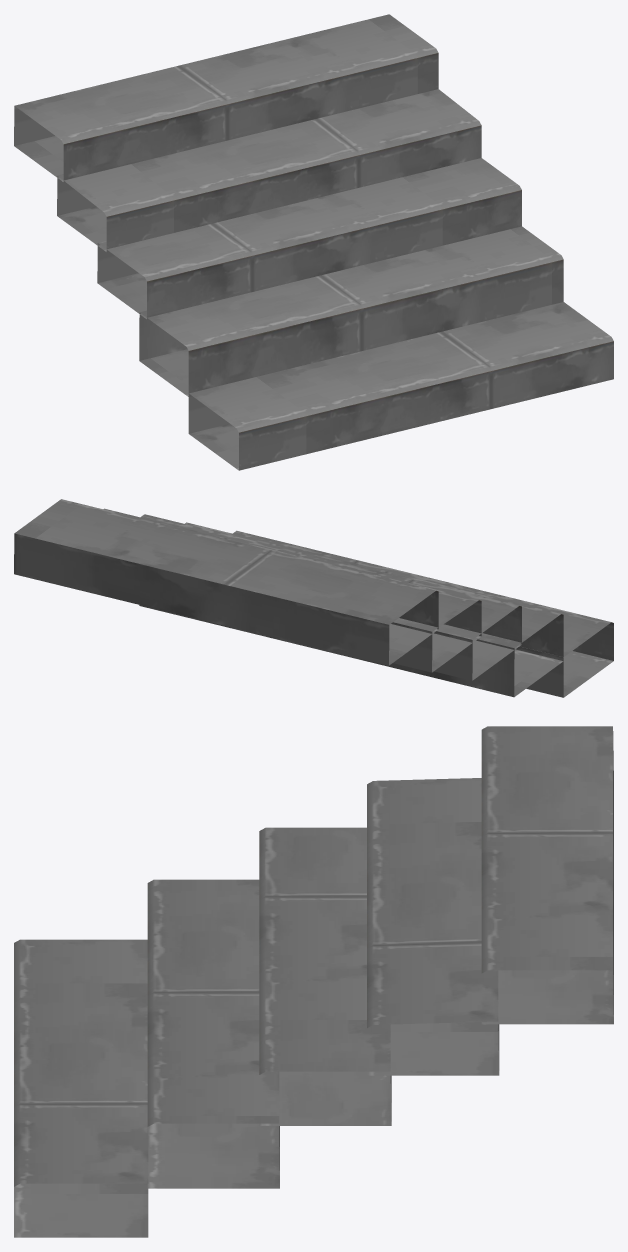
The model's file is Stairs_Exterior_Straight_Center.glb.
The picture shows the model from 3 angles, top to bottom: view 1: azimuth 30°, elevation 25°; view 2: azimuth 150°, elevation 25°; view 3: azimuth 270°, elevation 25°; orthographic projection. The views are drawn at different scales.
Visible parts, largest first — view 1: Stairs_Exterior_Straight_Center; view 2: Stairs_Exterior_Straight_Center; view 3: Stairs_Exterior_Straight_Center.
Part boxes in pixels (left/top/right/bottom): Stairs_Exterior_Straight_Center: left=14, top=14, right=613, bottom=470; Stairs_Exterior_Straight_Center: left=14, top=499, right=613, bottom=697; Stairs_Exterior_Straight_Center: left=14, top=726, right=613, bottom=1237.
Bounding box in the file's own units: 2 × 1.02 × 2.08.
Materials: 1 (1 with a texture image).
